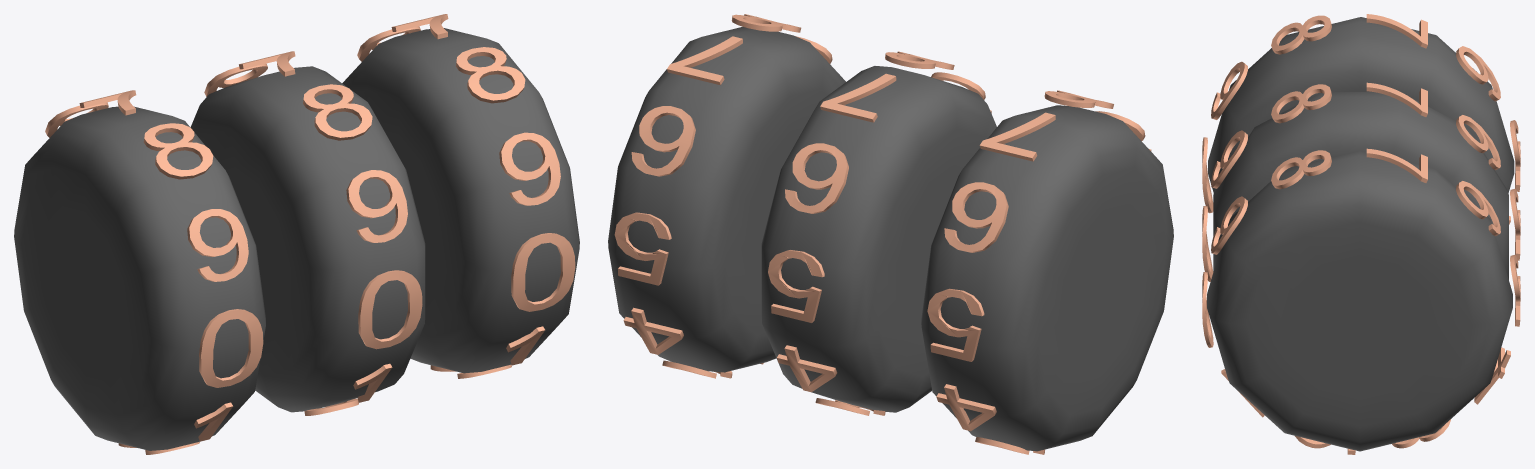
The model's file is LockDials.FBX.
The picture shows the model from 3 angles, left to right: view 1: azimuth 30°, elevation 25°; view 2: azimuth 150°, elevation 25°; view 3: azimuth 270°, elevation 25°; orthographic projection. The views are drawn at different scales.
Parts seen in each view (by area): view 1: Dial1, Dial2, Dial3; view 2: Dial1, Dial2, Dial3; view 3: Dial3, Dial1, Dial2.
Part boxes in pixels (x1,y1,x2,y2): Dial1: (14, 90, 265, 454); Dial2: (190, 51, 425, 415); Dial3: (342, 14, 579, 378); Dial1: (921, 90, 1173, 454); Dial2: (761, 51, 996, 415); Dial3: (608, 14, 845, 378); Dial3: (1202, 148, 1520, 454); Dial1: (1202, 14, 1520, 224); Dial2: (1202, 82, 1520, 286).
Size of the model in its own units: 158 by 117 by 117.
